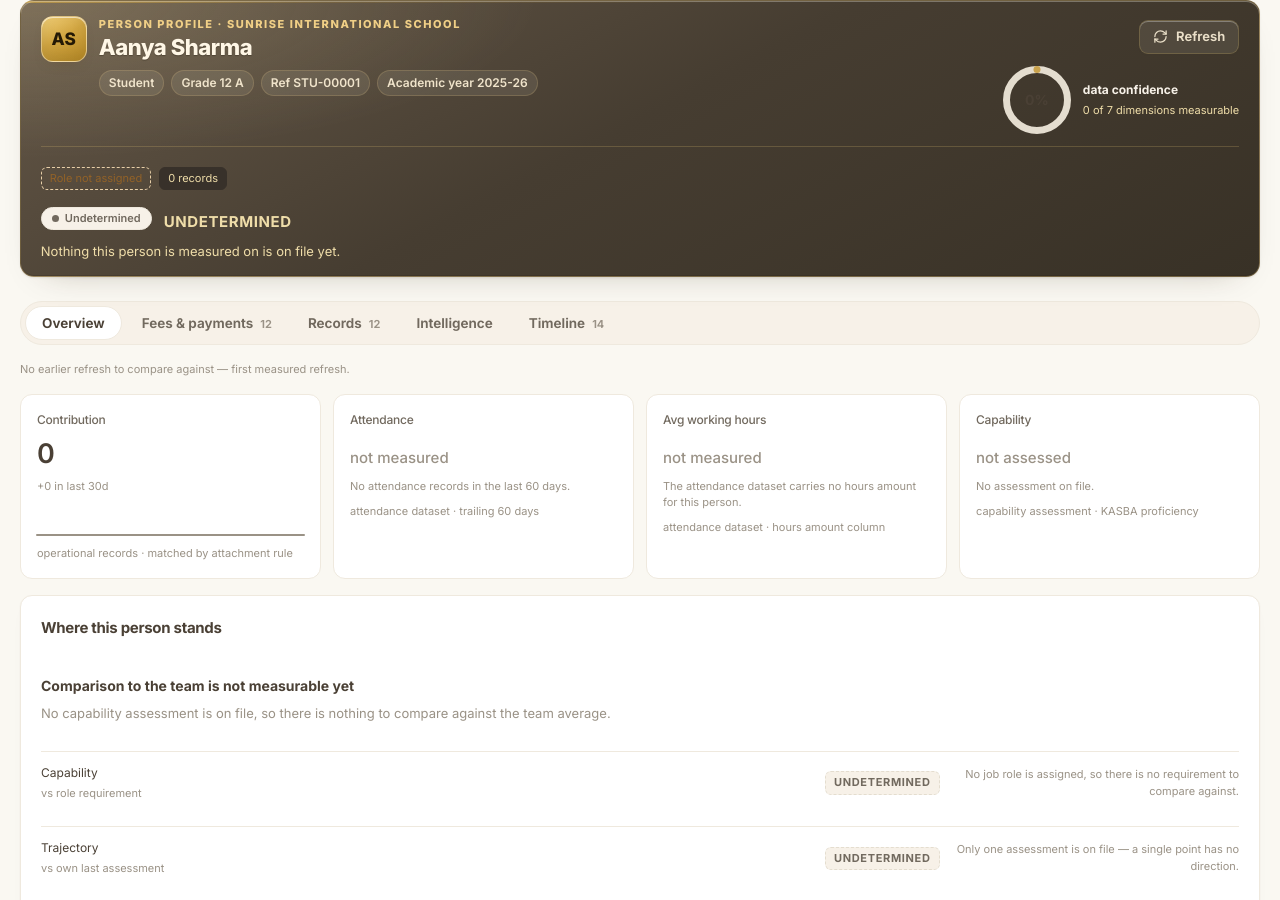
Scenario: Person profile › shows only the figures the API sent, in the currency the record used
This screenshot has width=1280, height=900.
Expected: the text "14,464" is not shown
Click the tab "Fees & payments12" at [207, 323], box [126,306,288,340]
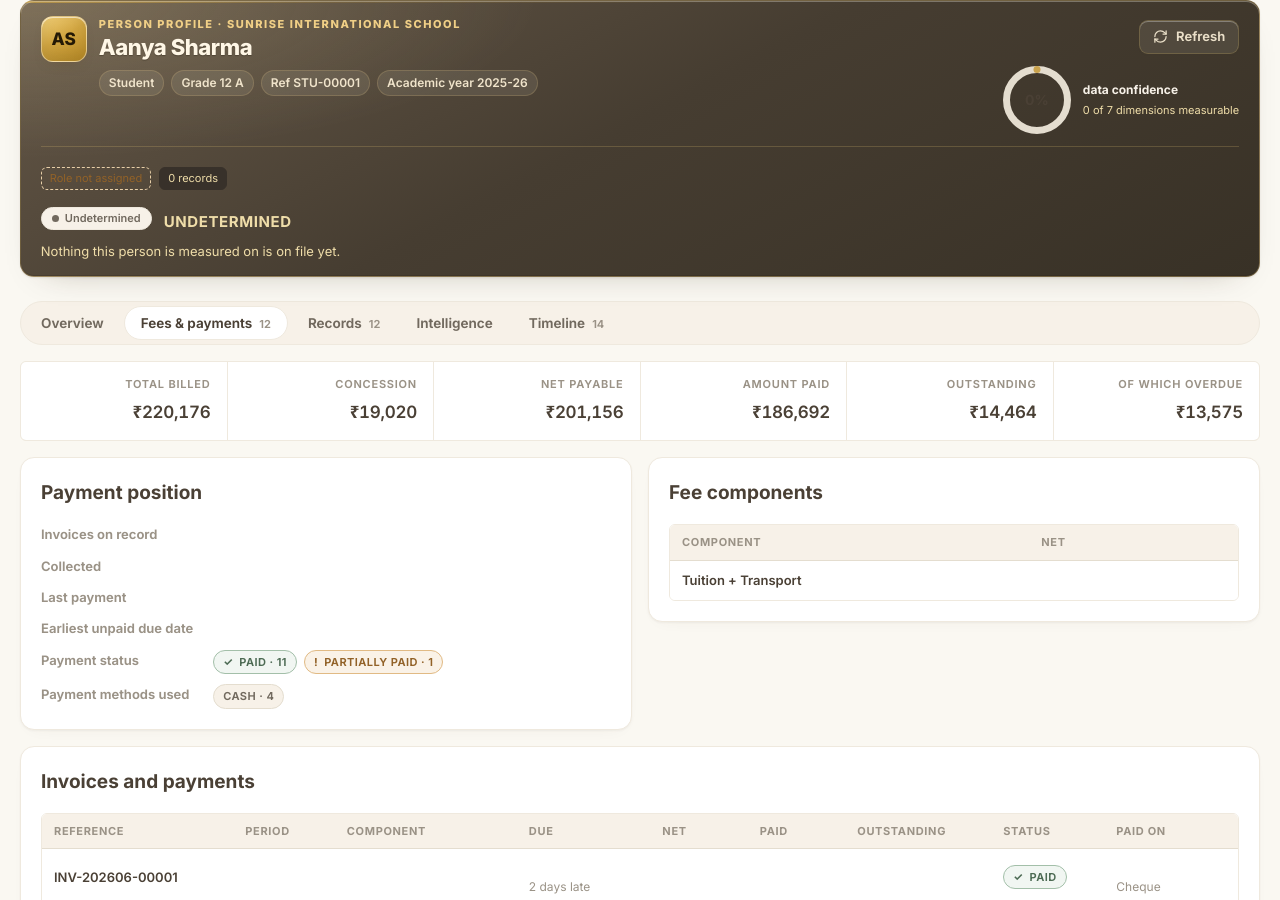
Result: the text "₹14,464" is shown at [969,402,1036,422]
